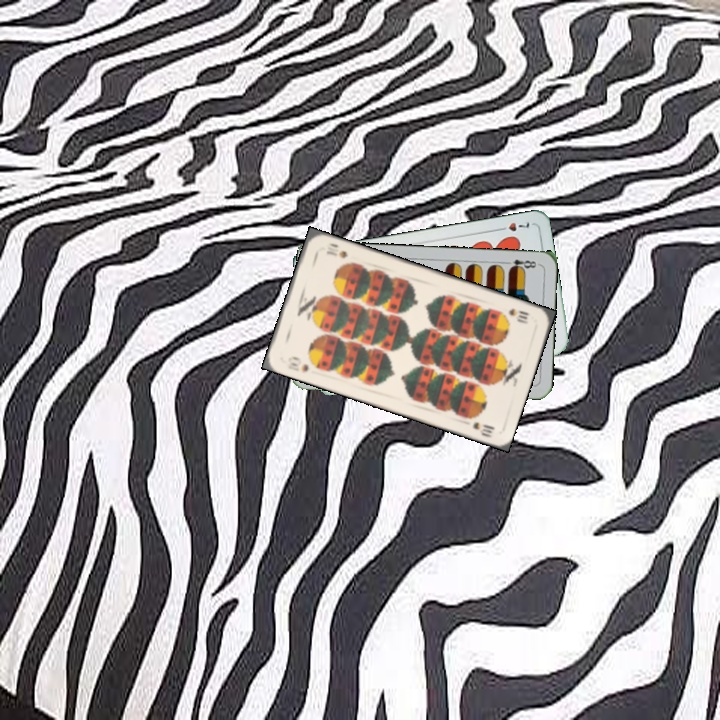E8: (500, 256, 541, 273)
H7: (493, 217, 532, 234)
S10: (283, 352, 311, 376), (505, 304, 531, 326)
